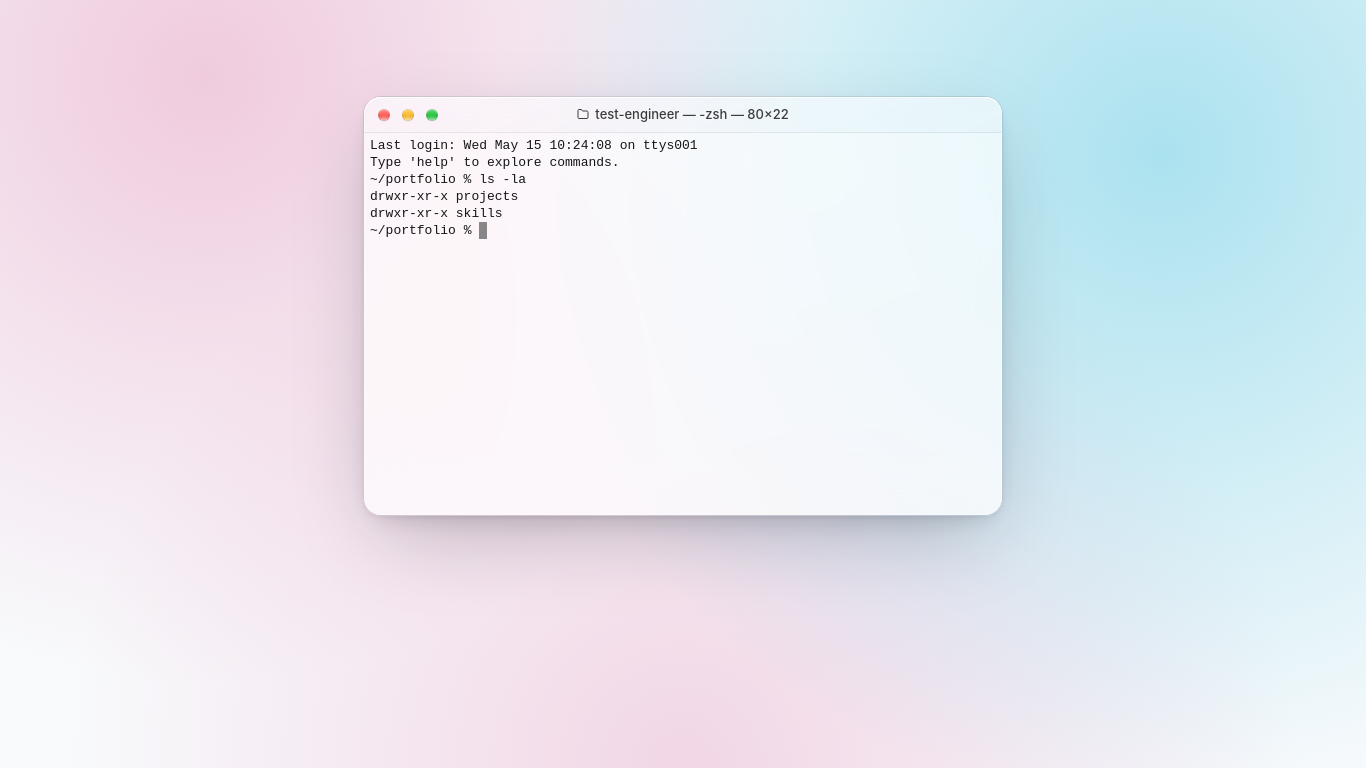
Test: TerminalWindow › runs commands through form submission and records command history
Type "help" into the field named "Terminal command input". click: (738, 230)
box: x1=479 y1=222 x2=996 y2=239
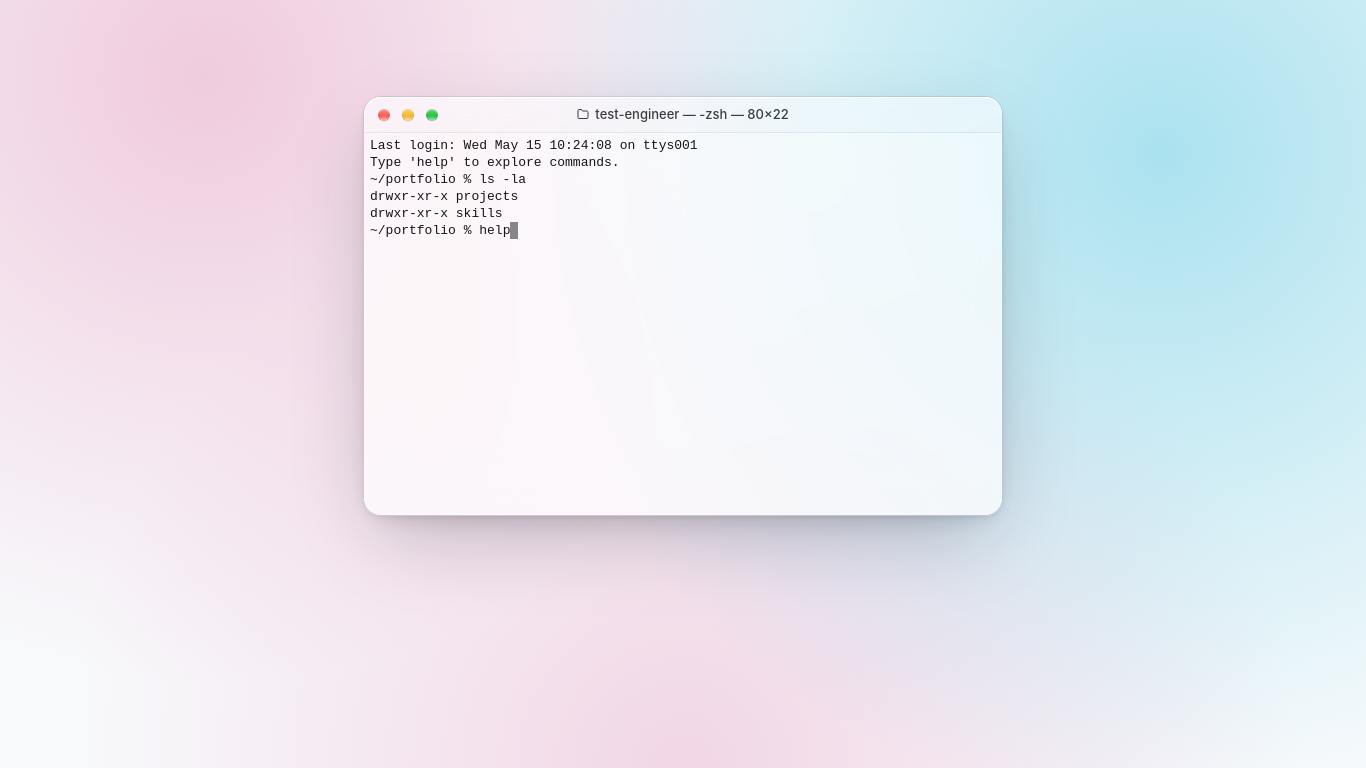
Submit the form named "Terminal command input", box x1=370 y1=222 x2=996 y2=239
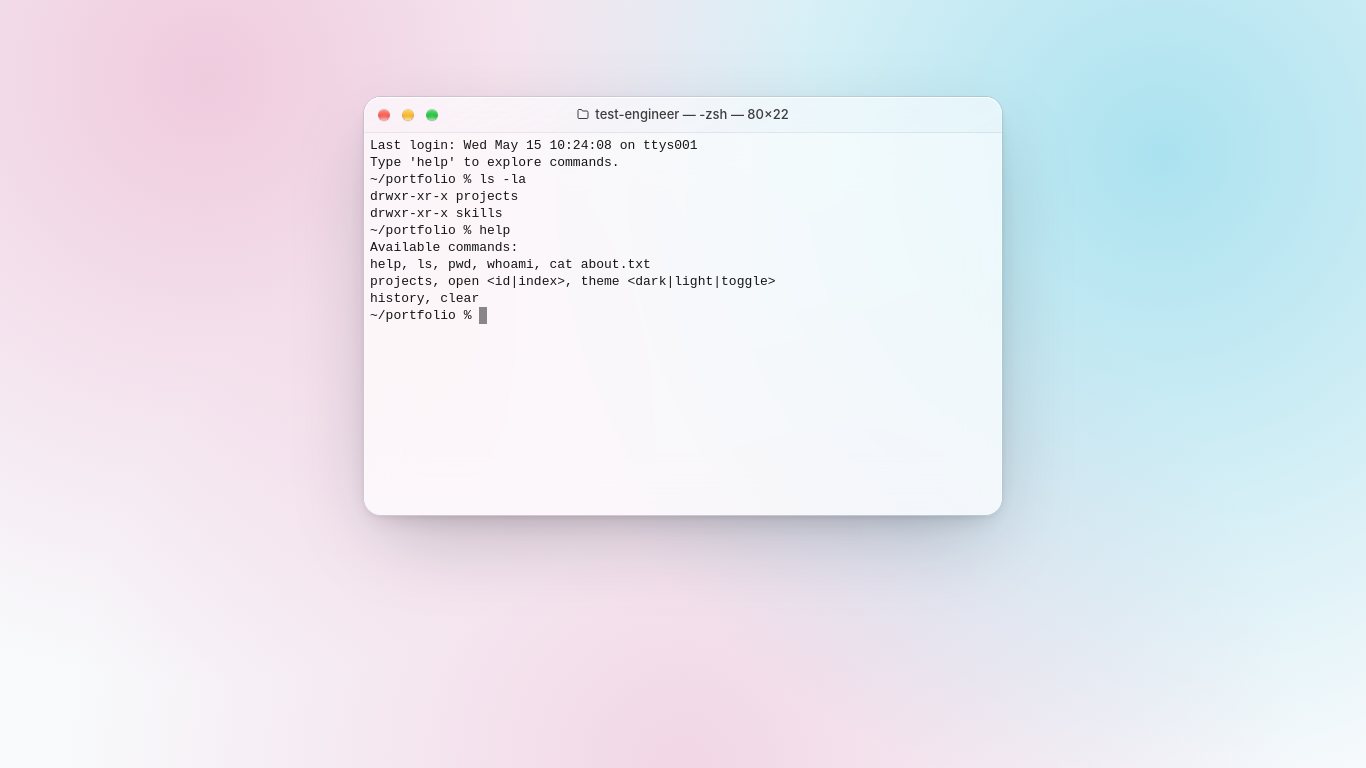
Type "history" into the field named "Terminal command input". click: (738, 316)
box: x1=479 y1=307 x2=996 y2=324
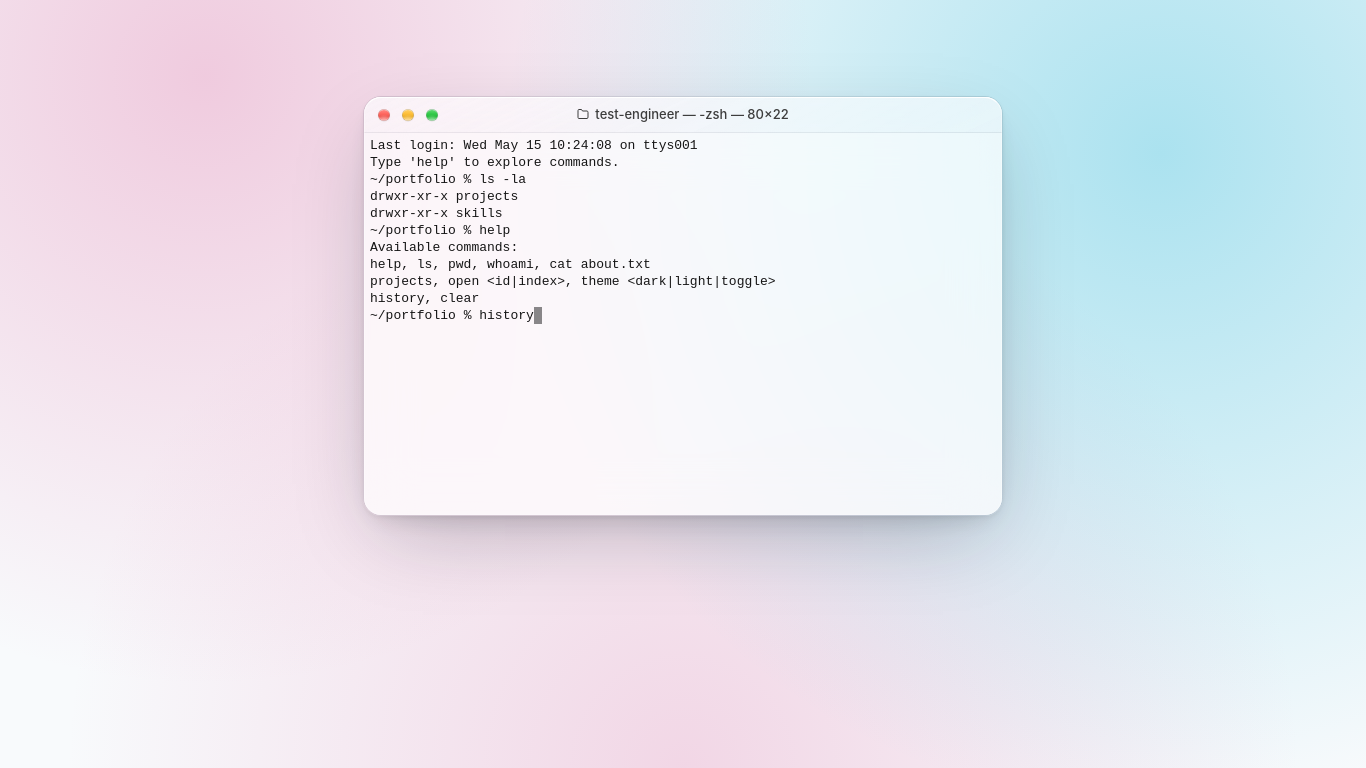
Press Enter
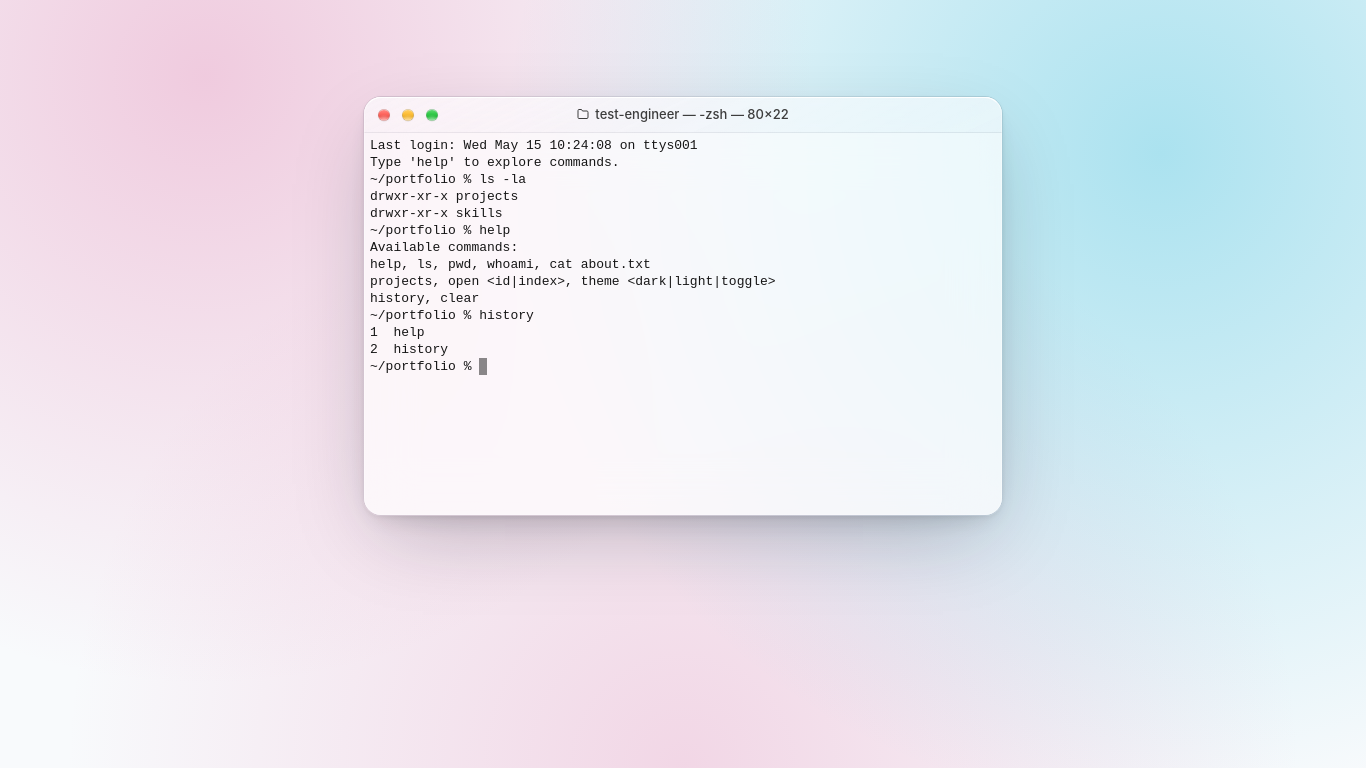
Result: the text "Available commands:" is shown at x1=370 y1=240 x2=518 y2=255
Result: the text "1 help" is shown at x1=370 y1=325 x2=425 y2=340
Result: the text "2 history" is shown at x1=370 y1=342 x2=448 y2=357
